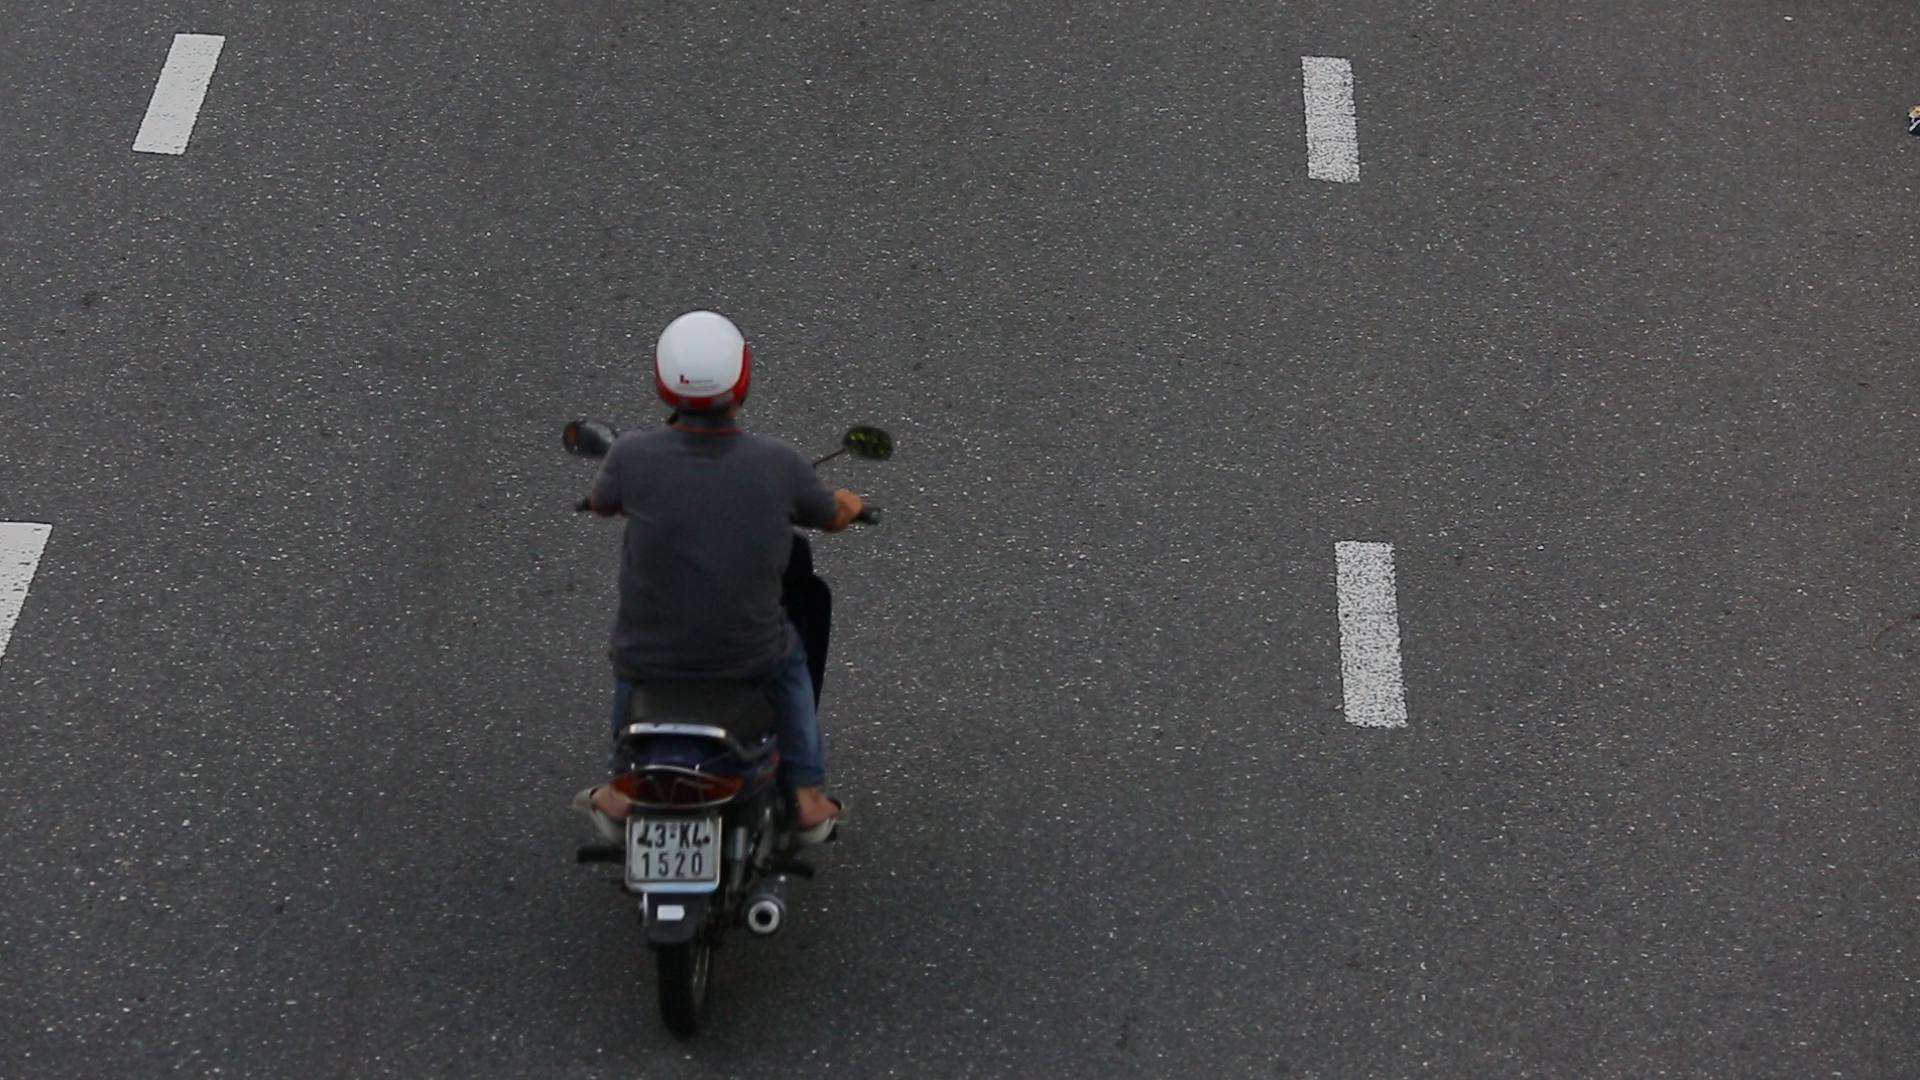motobike: (555, 284, 907, 1030)
